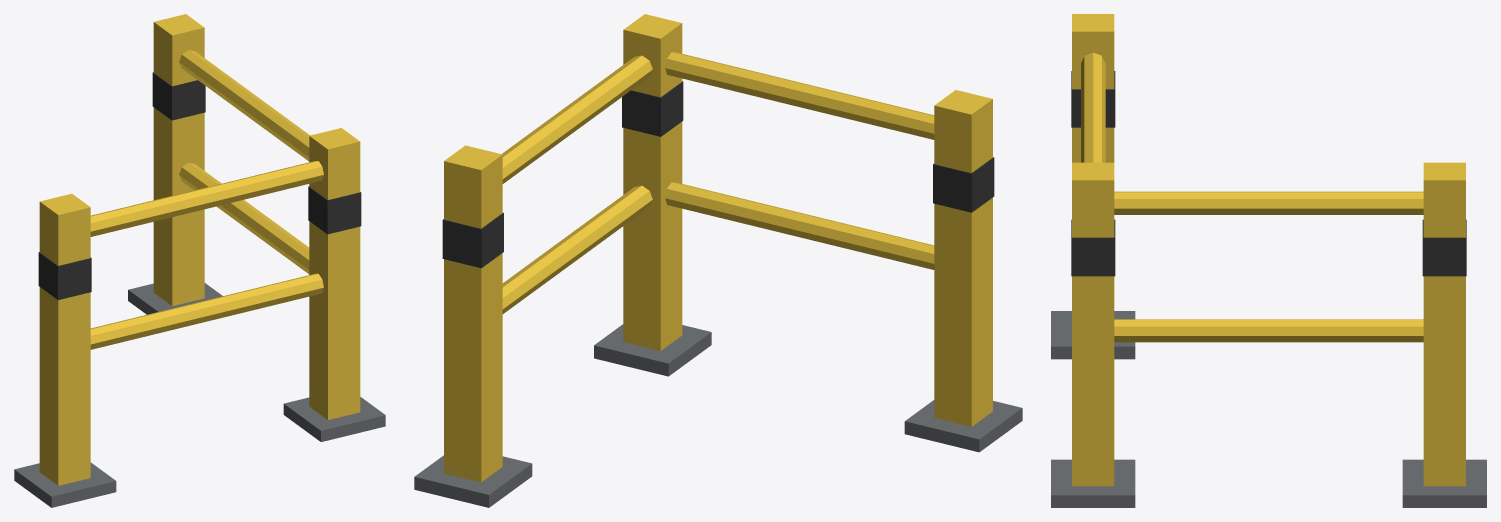
Rendered from kit_railing_corner.glb.
3 views of the same model, side by side, from view 1: azimuth 30°, elevation 25°; view 2: azimuth 150°, elevation 25°; view 3: azimuth 270°, elevation 25° (orthographic). The views are drawn at different scales.
Parts seen in each view (by area): view 1: posts.001, rails.001; view 2: posts.001, rails.001; view 3: posts.001, rails.001.
Part boxes in pixels (x1=…): posts.001: x1=14, y1=14, x2=385, y2=507; rails.001: x1=90, y1=50, x2=323, y2=349; posts.001: x1=414, y1=14, x2=1022, y2=507; rails.001: x1=501, y1=52, x2=934, y2=313; posts.001: x1=1051, y1=14, x2=1486, y2=507; rails.001: x1=1081, y1=52, x2=1423, y2=342.
Size of the model in its own units: 1.24 by 1 by 1.24.
